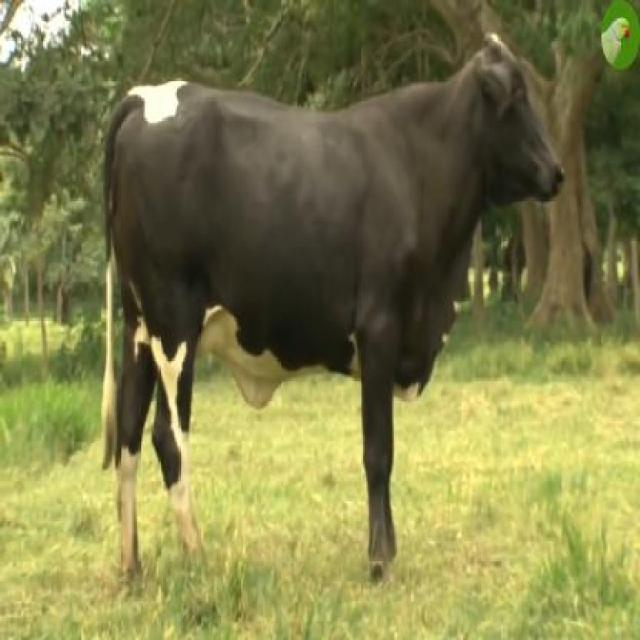Cow: (105, 32, 564, 591)
